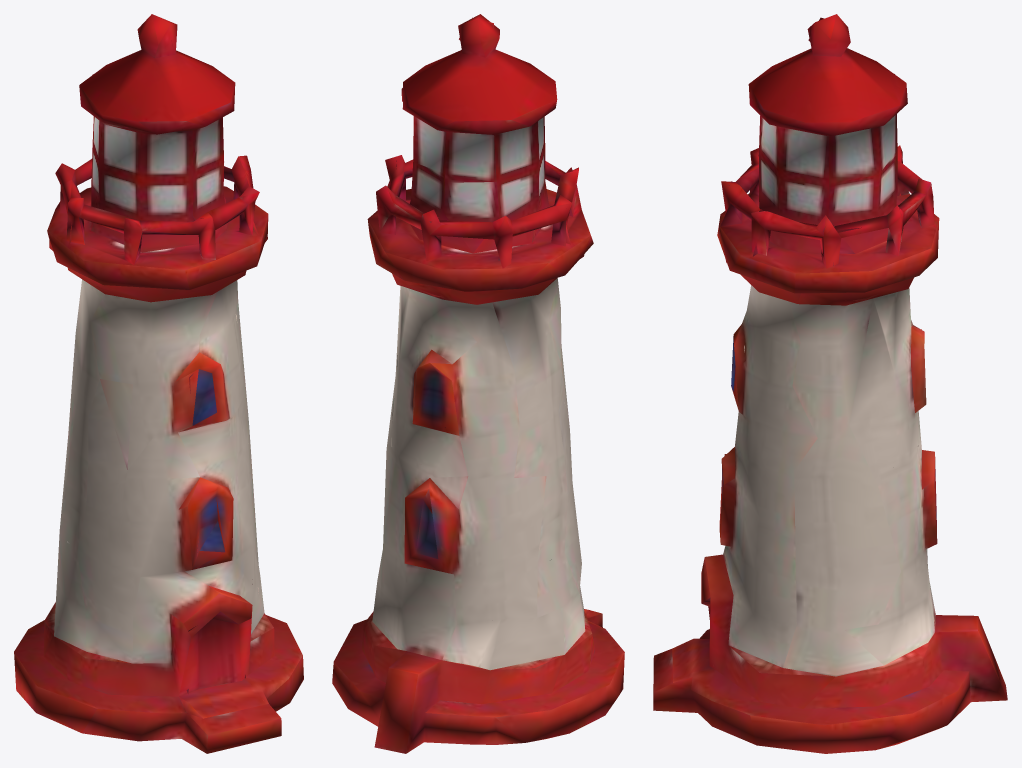
Rendered from lg-lighthouse.glb.
The picture shows the model from 3 angles, left to right: view 1: azimuth 30°, elevation 25°; view 2: azimuth 150°, elevation 25°; view 3: azimuth 270°, elevation 25°; orthographic projection.
Parts seen in each view (by area): view 1: geometry_0; view 2: geometry_0; view 3: geometry_0.
Boxes of the visible parts, x1=… form: geometry_0: x1=14, y1=14, x2=303, y2=753; geometry_0: x1=332, y1=14, x2=624, y2=753; geometry_0: x1=653, y1=14, x2=1007, y2=753.
Bounding box in the file's own units: 0.3959 × 1 × 0.4741.
1 material, 1 textured.
